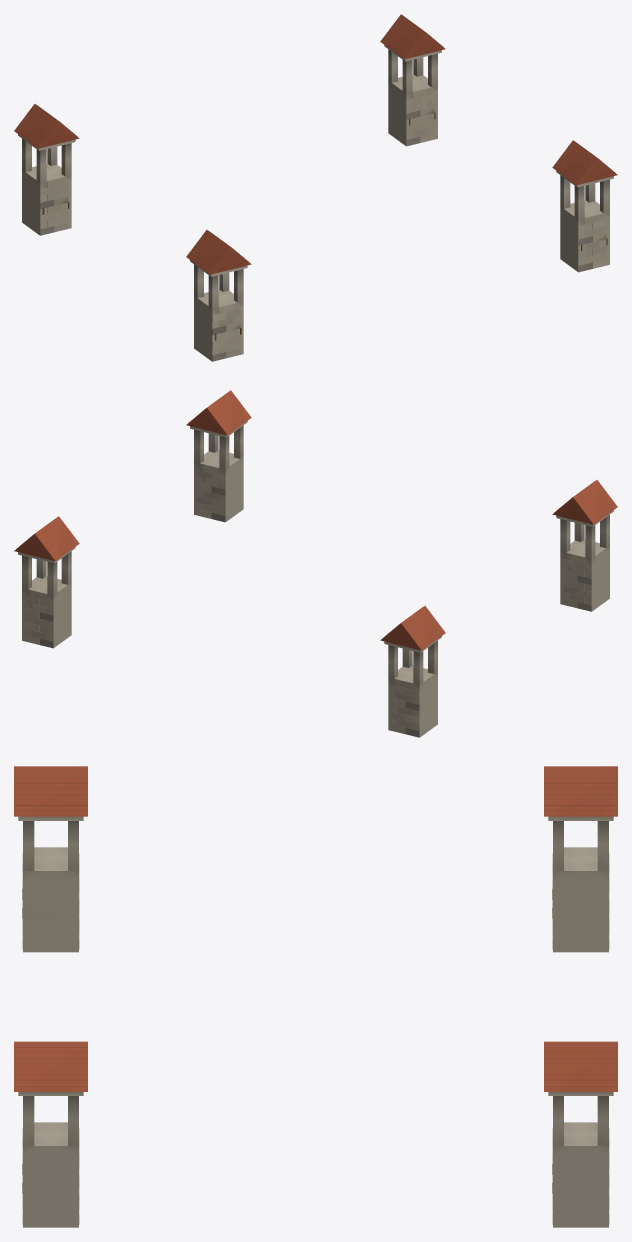
The model's file is 08_towers.glb.
3 views of the same model, one above another, from view 1: azimuth 30°, elevation 25°; view 2: azimuth 150°, elevation 25°; view 3: azimuth 270°, elevation 25° (orthographic). The views are drawn at different scales.
Parts seen in each view (by area): view 1: 08_towers_stone, 08_towers_roof, 08_towers_ashlar_nocol, 08_towers_rooflight_nocol, 08_towers_mortar_nocol, 08_towers_ashlar; view 2: 08_towers_stone, 08_towers_roof, 08_towers_ashlar_nocol, 08_towers_rooflight_nocol, 08_towers_mortar_nocol, 08_towers_ashlar; view 3: 08_towers_stone, 08_towers_roof, 08_towers_rooflight_nocol, 08_towers_ashlar, 08_towers_ashlar_nocol.
Boxes of the visible parts, x1=… form: 08_towers_stone: x1=22, y1=49, x2=609, y2=361; 08_towers_roof: x1=14, y1=14, x2=617, y2=274; 08_towers_ashlar_nocol: x1=40, y1=89, x2=606, y2=357; 08_towers_rooflight_nocol: x1=16, y1=17, x2=615, y2=270; 08_towers_mortar_nocol: x1=40, y1=110, x2=592, y2=361; 08_towers_ashlar: x1=18, y1=45, x2=613, y2=276; 08_towers_stone: x1=22, y1=425, x2=609, y2=737; 08_towers_roof: x1=14, y1=390, x2=617, y2=650; 08_towers_ashlar_nocol: x1=25, y1=465, x2=591, y2=733; 08_towers_rooflight_nocol: x1=16, y1=393, x2=615, y2=646; 08_towers_mortar_nocol: x1=39, y1=486, x2=591, y2=737; 08_towers_ashlar: x1=18, y1=421, x2=613, y2=652; 08_towers_stone: x1=23, y1=821, x2=608, y2=1227; 08_towers_roof: x1=14, y1=766, x2=617, y2=1091; 08_towers_rooflight_nocol: x1=14, y1=771, x2=617, y2=1086; 08_towers_ashlar: x1=18, y1=816, x2=613, y2=1095; 08_towers_ashlar_nocol: x1=22, y1=853, x2=609, y2=1224.
Size of the model in its own units: 323 by 85.5 by 269.
